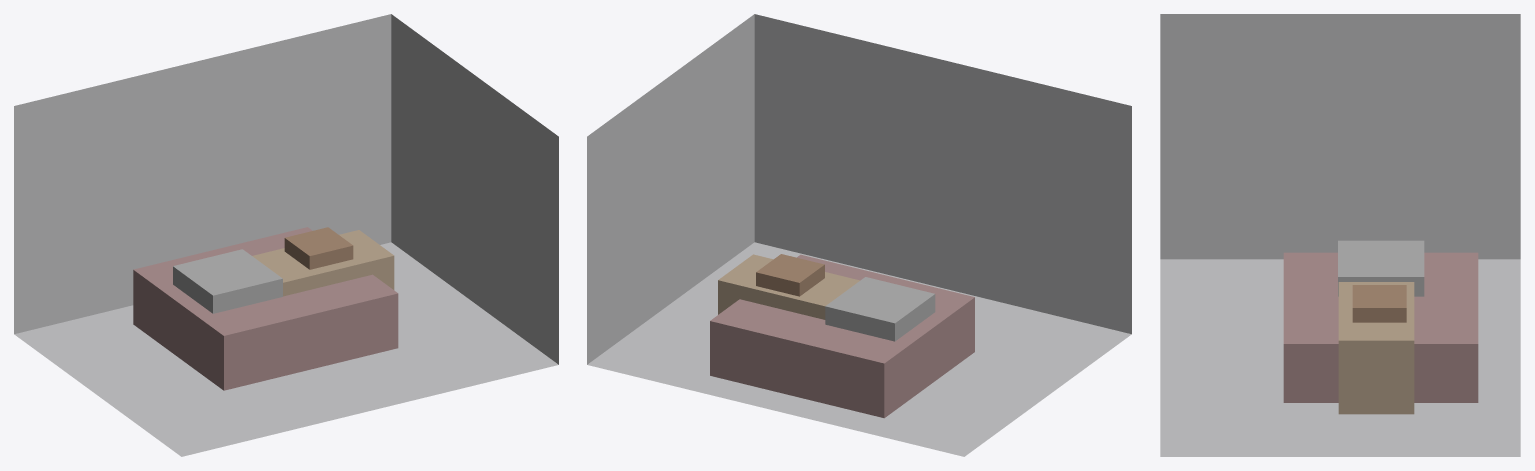
Rendered from optimised_layout.glb.
The picture shows the model from 3 angles, left to right: view 1: azimuth 30°, elevation 25°; view 2: azimuth 150°, elevation 25°; view 3: azimuth 270°, elevation 25°; orthographic projection. The views are drawn at different scales.
Parts seen in each view (by area): view 1: room, bed, dustbin, desk, chair; view 2: room, bed, dustbin, desk, chair; view 3: room, bed, desk, dustbin, chair.
Part boxes in pixels (box(x1,y1,x2,y2)): room: box(14, 14, 558, 456); bed: box(133, 227, 398, 390); dustbin: box(173, 249, 282, 313); desk: box(252, 230, 394, 296); chair: box(284, 227, 353, 269); room: box(587, 14, 1131, 456); bed: box(710, 254, 974, 418); dustbin: box(825, 277, 935, 341); desk: box(718, 254, 859, 319); chair: box(756, 254, 824, 296); room: box(1160, 14, 1520, 456); bed: box(1283, 252, 1478, 402); desk: box(1338, 282, 1414, 414); dustbin: box(1338, 240, 1424, 296); chair: box(1352, 285, 1406, 322).
Size of the model in its own units: 4.32 by 2.5 by 3.33.
